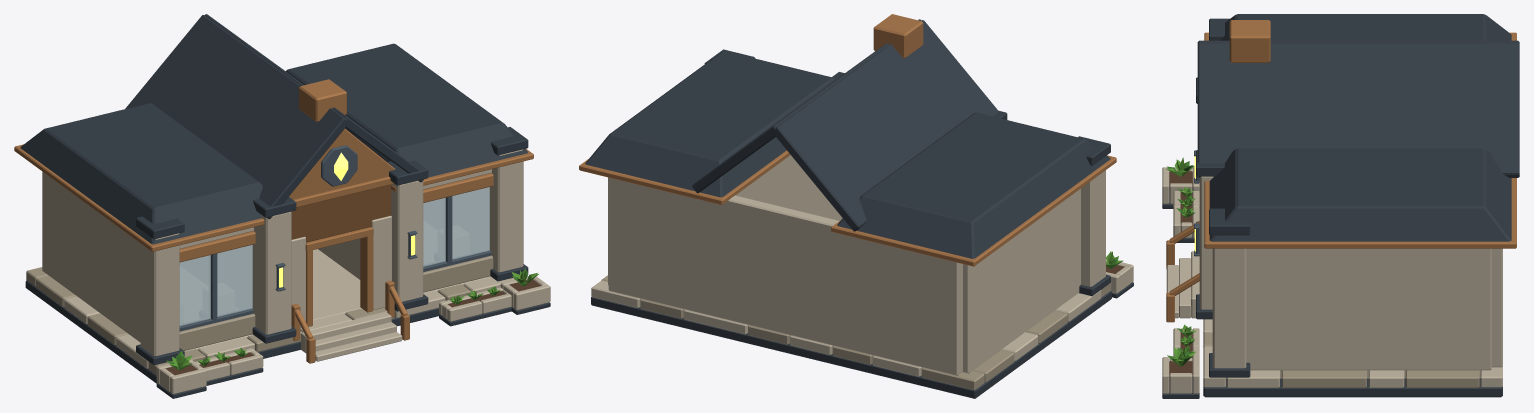
File: Lobby_Gallery.fbx
The picture shows the model from 3 angles, left to right: view 1: azimuth 30°, elevation 25°; view 2: azimuth 150°, elevation 25°; view 3: azimuth 270°, elevation 25°; orthographic projection. The views are drawn at different scales.
Visible parts, largest first — view 1: Roof, Pillars, Walls, Windows, Timber, Foundation, Concrete, EntrancePanel, Walls2, Steps, Foundation2, PillarCaps (+11 smaller); view 2: Roof, Walls, FoundationBase, Timber, Foundation2, Foundation, Pillars, RoofRidge, PillarCaps, Concrete; view 3: Roof, Walls, Pillars, Timber, FoundationBase, Foundation2, Concrete, Foundation, RoofRidge, PillarCaps, Steps, Rails (+5 smaller).
Part boxes in pixels (box(x1,y1,x2,y2)): Roof: box(20, 14, 527, 244); Pillars: box(140, 149, 523, 356); Walls: box(42, 169, 491, 342); Windows: box(179, 187, 489, 326); Timber: box(14, 144, 533, 326); Foundation: box(64, 249, 514, 368); Concrete: box(156, 276, 550, 394); EntrancePanel: box(291, 184, 391, 242); Walls2: box(179, 255, 493, 350); Steps: box(301, 312, 402, 361); Foundation2: box(26, 267, 471, 374); PillarCaps: box(136, 127, 528, 239); Roof: box(585, 19, 1110, 258); Walls: box(608, 155, 1080, 375); FoundationBase: box(591, 291, 1111, 398); Timber: box(579, 150, 1116, 266); Foundation2: box(601, 275, 1111, 390); Foundation: box(591, 280, 1101, 376); Pillars: box(1081, 170, 1105, 286); RoofRidge: box(873, 14, 923, 58); PillarCaps: box(704, 49, 1110, 165); Concrete: box(1106, 259, 1133, 293); Roof: box(1197, 14, 1519, 241); Walls: box(1246, 248, 1502, 370); Pillars: box(1199, 176, 1246, 368); Timber: box(1204, 32, 1516, 248); FoundationBase: box(1203, 378, 1502, 397); Foundation2: box(1203, 332, 1479, 387); Concrete: box(1162, 167, 1199, 393); Foundation: box(1203, 319, 1502, 387); RoofRidge: box(1229, 20, 1270, 62); PillarCaps: box(1196, 18, 1250, 235); Steps: box(1166, 251, 1199, 318); Rails: box(1166, 221, 1199, 322).
Size of the model in its own units: 26.7 by 15.75 by 19.1.
